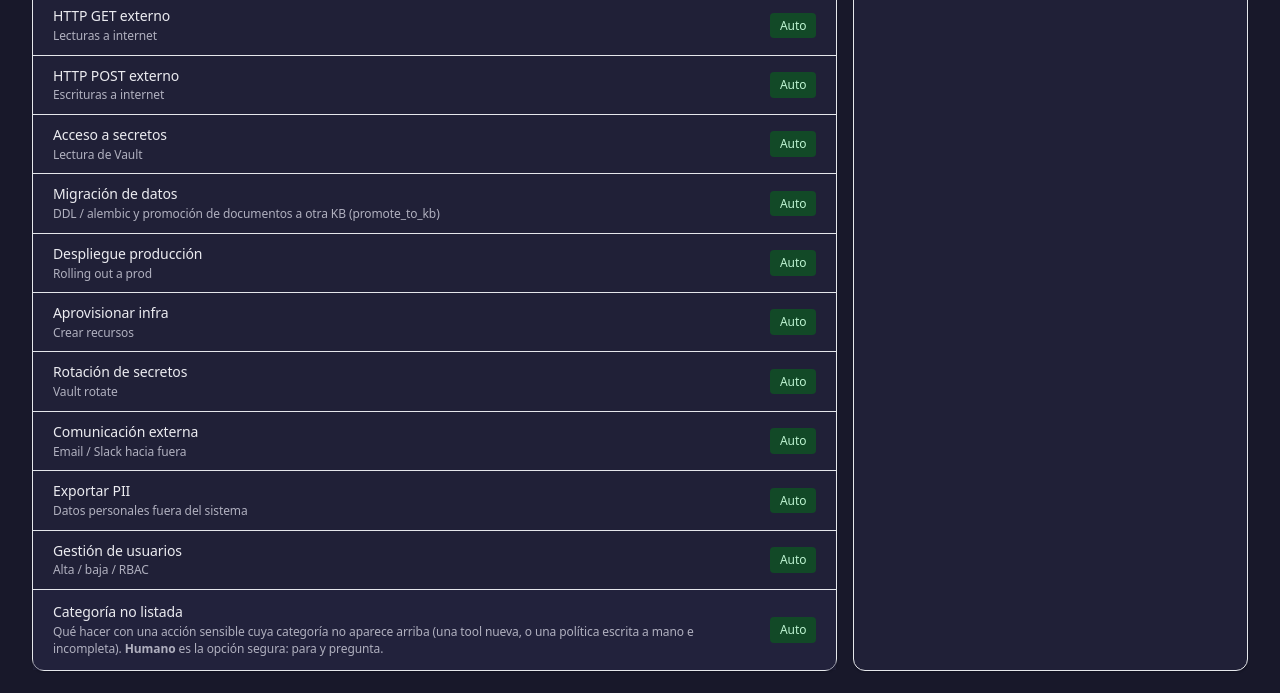
Scenario: ApprovalPolicyPage — categoria no listada (ADR 0153) › se puede editar, y el cambio cuenta como pendiente de guardar
The width and height of the screenshot is (1280, 693).
(page scrolled)
Click the button with test id "toggle-unlisted-category": (793, 630) [770, 617, 816, 643]
(page scrolled)
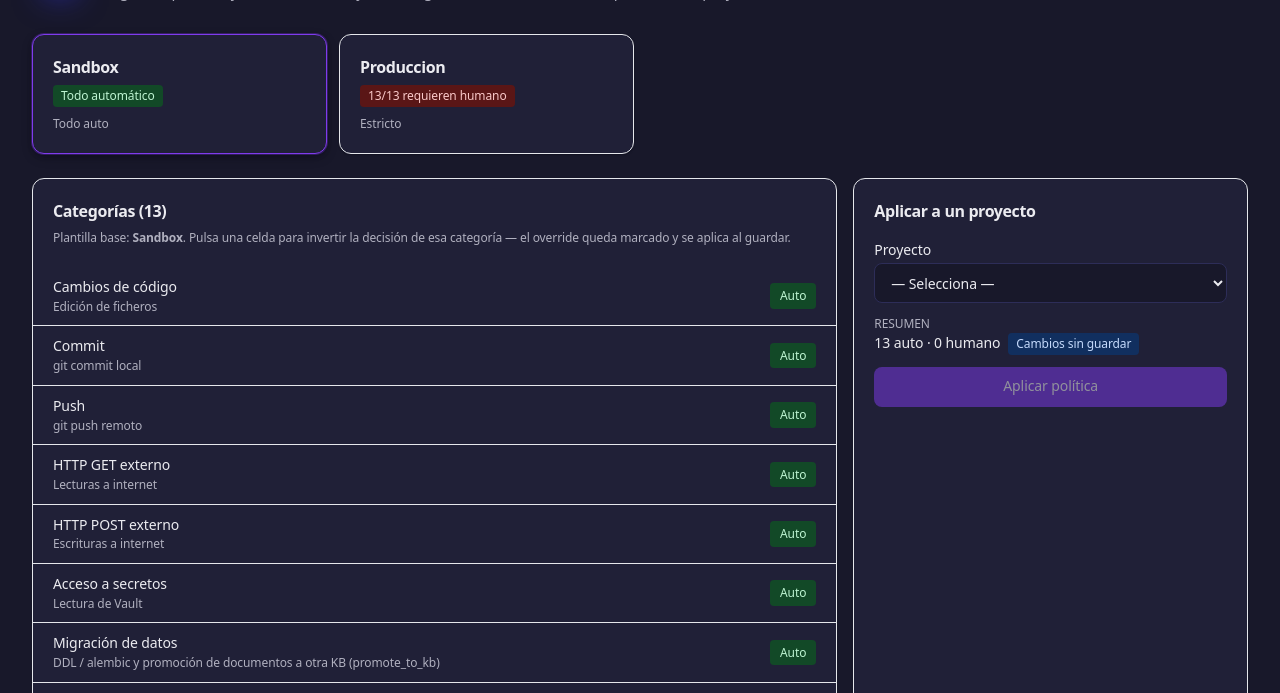
Check: the text "Cambios sin guardar" is shown, box [1008, 333, 1139, 355]
